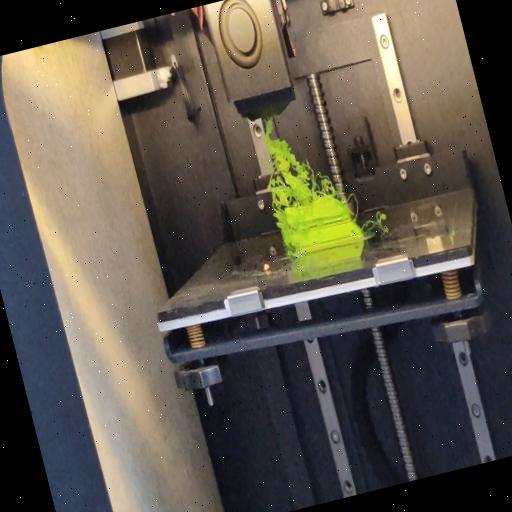spaghetti: (249, 107, 348, 216), (272, 212, 294, 260), (358, 212, 390, 233), (347, 190, 363, 221)
